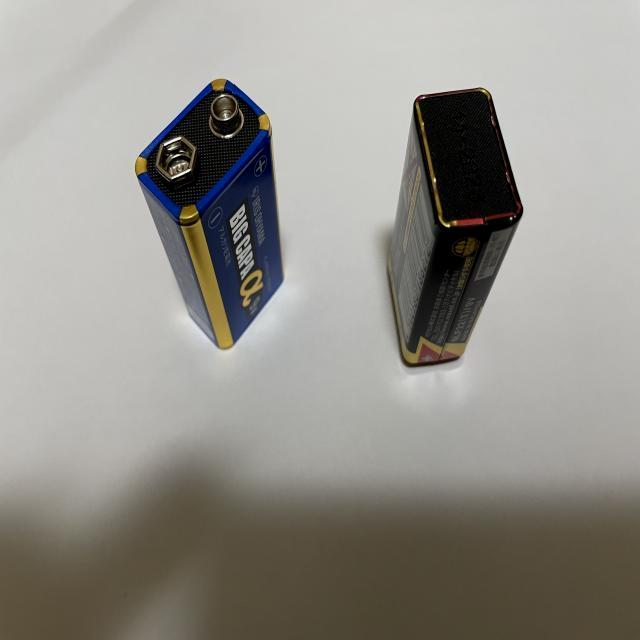9V: (136, 79, 287, 350), (384, 86, 522, 366)
